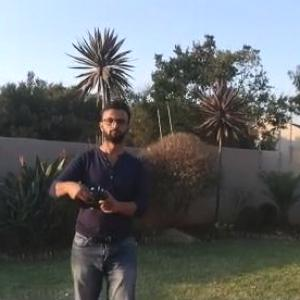follow: (45, 92, 153, 299)
